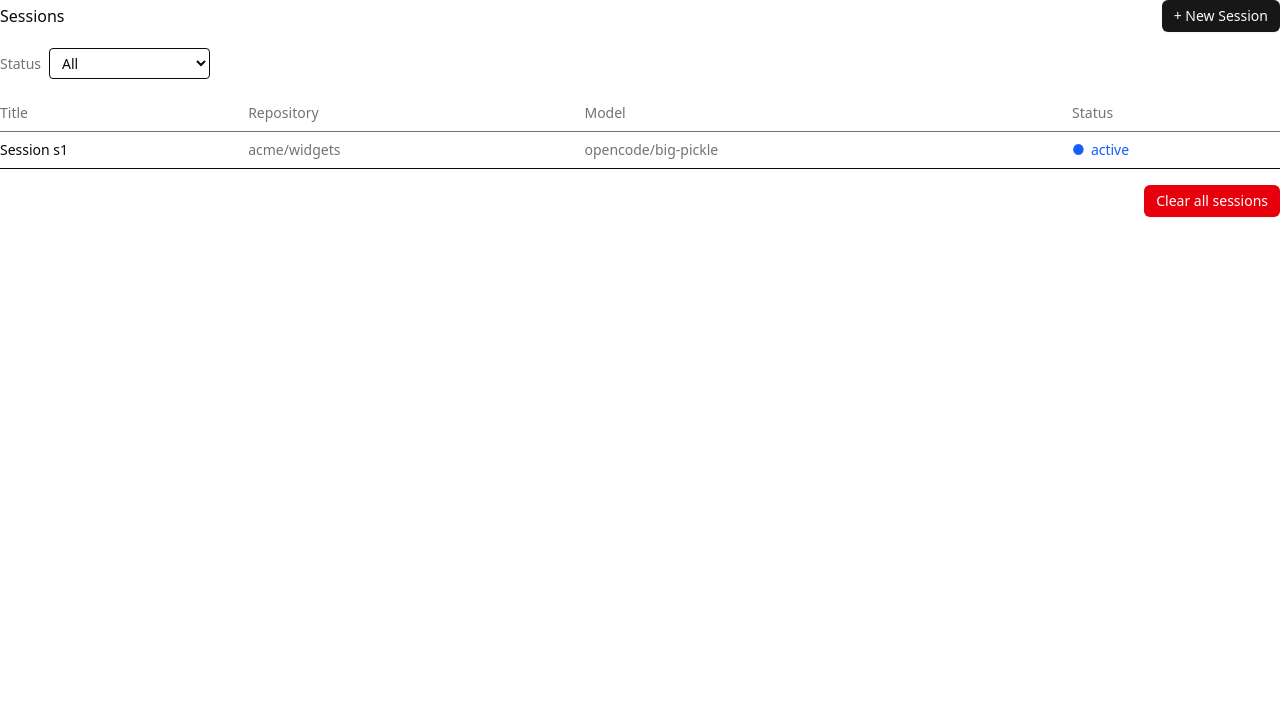
it: SessionList — clear all sessions › shows an error message when the delete request fails
The image size is (1280, 720).
Expected: the link "Session s1" is shown, 0,140 -> 68,159
Click the button "Clear all sessions" at point(1212, 201), box 1144,185 -> 1279,217
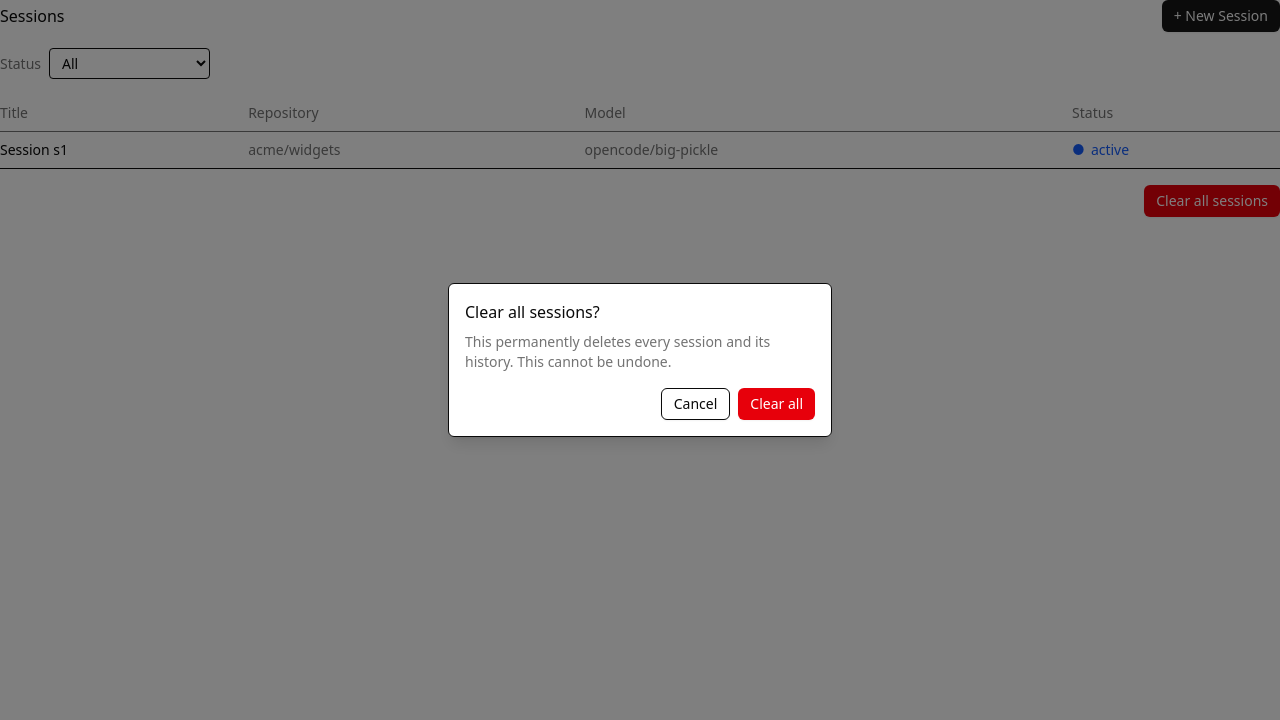
Click the button "Clear all" at point(777, 404), box 738,388 -> 815,420
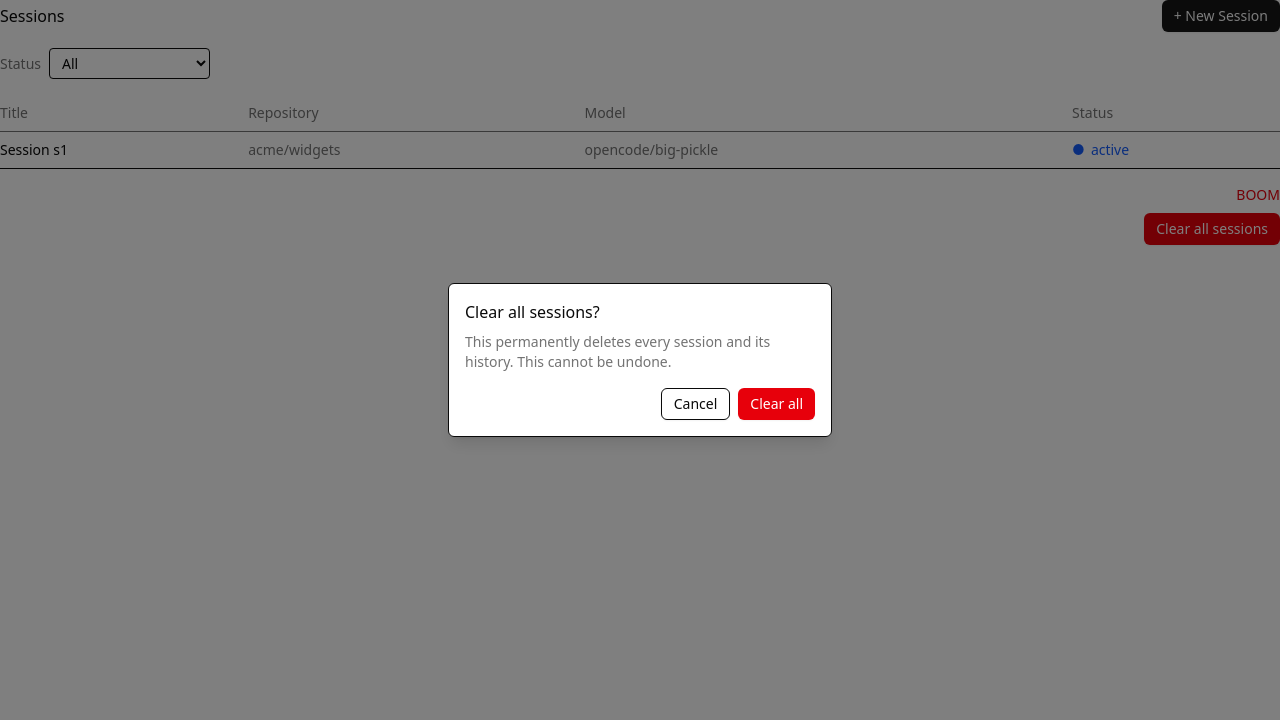
Expected: the link "Session s1" is shown, 0,140 -> 68,159
Now the text "BOOM" is shown, box 1236,185 -> 1279,205
